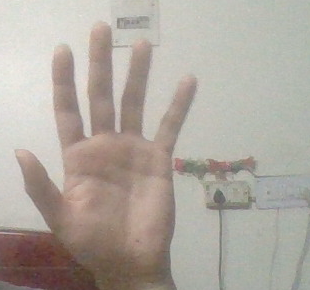move: (73, 42, 208, 290)
